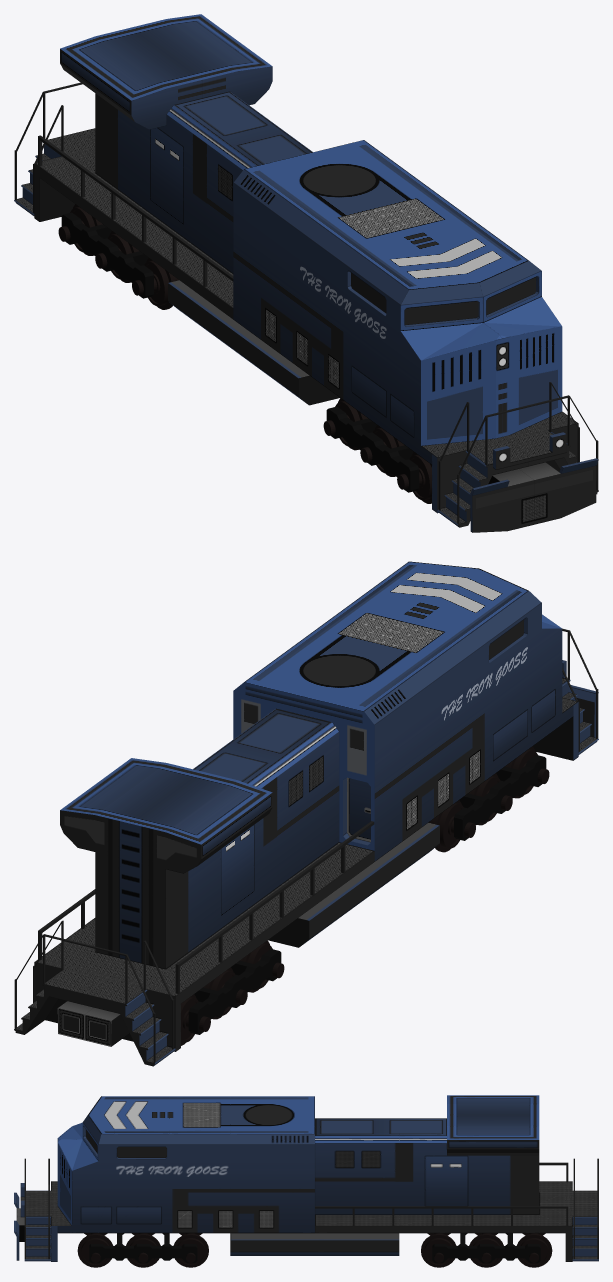
The model's file is train_002.fbx.
3 renders of one model, top to bottom at view 1: azimuth 30°, elevation 25°; view 2: azimuth 150°, elevation 25°; view 3: azimuth 270°, elevation 25°, orthographic. The views are drawn at different scales.
Parts seen in each view (by area): view 1: main, undercarriage_002, undercarriage_001, wheels3, wheels6; view 2: main, undercarriage_001, undercarriage_002, wheels4; view 3: main, undercarriage_001, undercarriage_002, wheels1, wheels6, wheels3, wheels4, wheels2, wheels5.
Part boxes in pixels (<box>): main: <box>14,14,598,532</box>; undercarriage_002: <box>326,406,419,492</box>; undercarriage_001: <box>61,212,153,298</box>; wheels3: <box>132,258,178,309</box>; wheels6: <box>397,452,431,503</box>; main: <box>14,561,598,1066</box>; undercarriage_001: <box>188,949,281,1034</box>; undercarriage_002: <box>454,755,546,840</box>; wheels4: <box>429,800,475,852</box>; main: <box>14,1095,598,1261</box>; undercarriage_001: <box>432,1233,540,1262</box>; undercarriage_002: <box>89,1233,197,1262</box>; wheels1: <box>516,1233,552,1267</box>; wheels6: <box>77,1233,113,1267</box>; wheels3: <box>421,1233,456,1267</box>; wheels4: <box>173,1233,208,1267</box>; wheels2: <box>469,1233,503,1267</box>; wheels5: <box>126,1233,160,1267</box>.
Bounding box in the file's own units: 410 × 573 × 2216.
